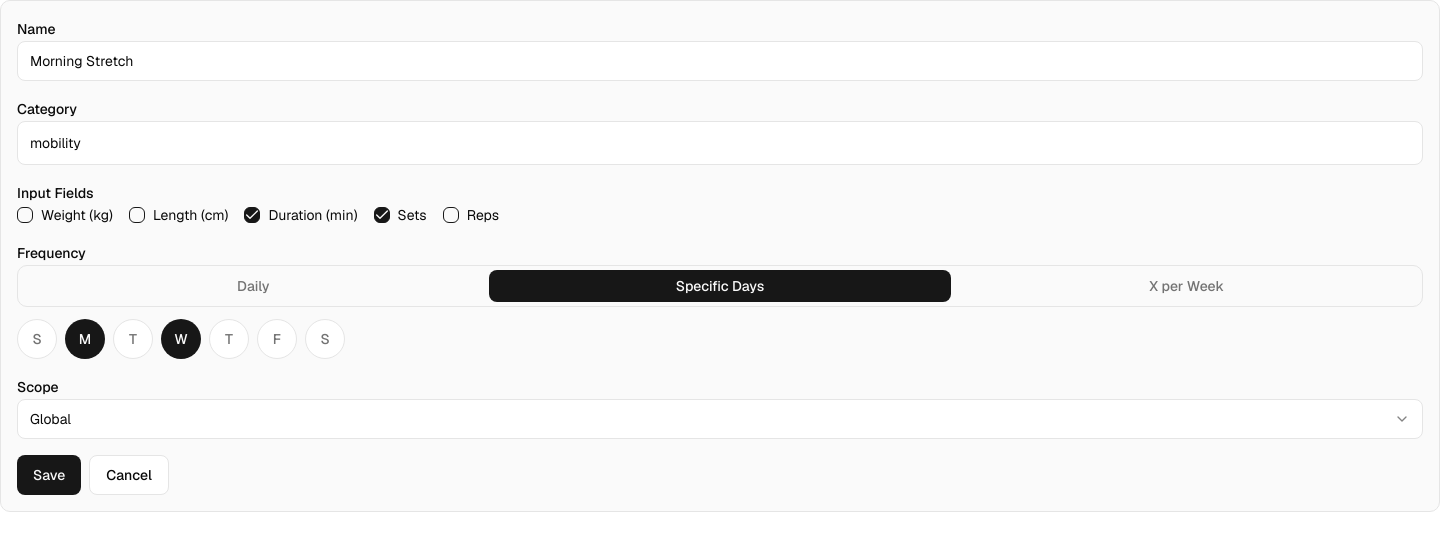
it: EditRoutineItemForm › mode switching clears data › switching from specific_days to weekly_target shows number input
Note: Switch to weekly_target
Click the button "X per Week" at (1187, 286), box 955,270 -> 1418,302
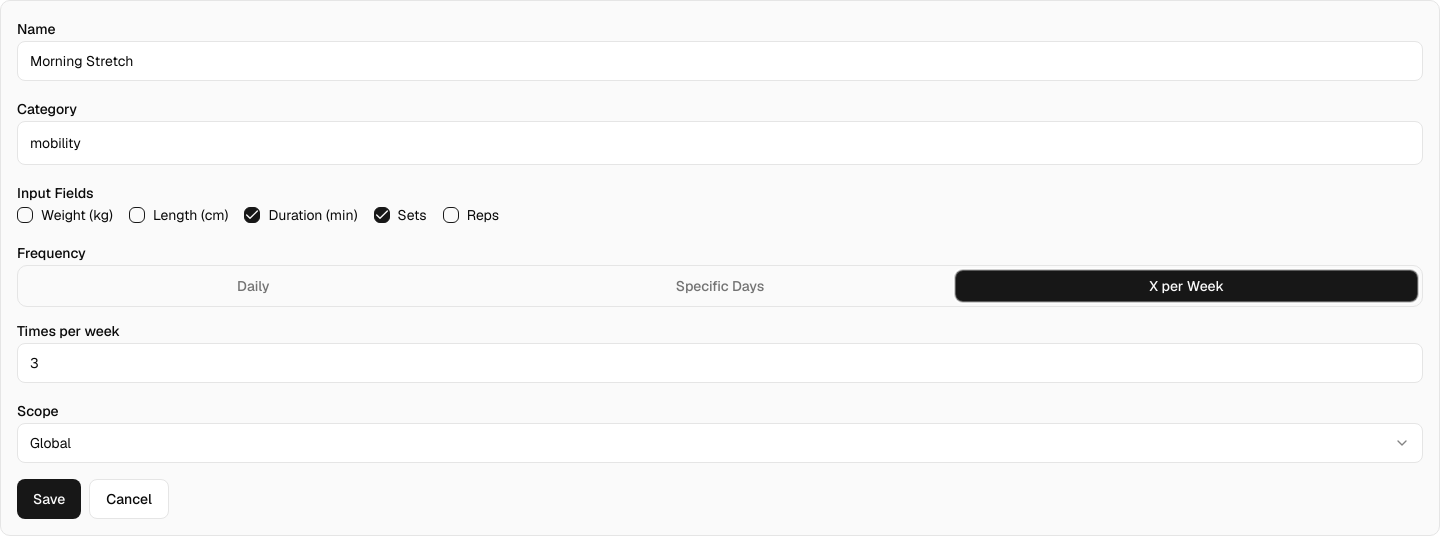
Result: the field labelled "Times per week" is shown at 17,343 -> 1423,383
